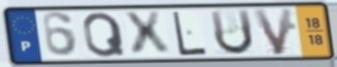6: (42, 9, 79, 61)
L: (171, 9, 210, 57)
Q: (81, 11, 128, 59)
U: (208, 8, 256, 58)
V: (250, 7, 296, 57)
X: (121, 9, 174, 58)
